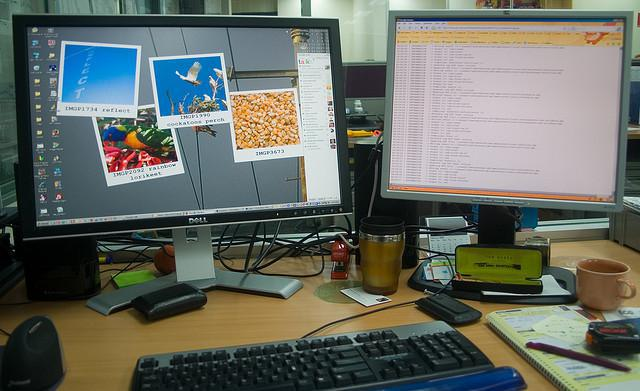tv: (8, 6, 364, 299), (373, 2, 635, 261)
